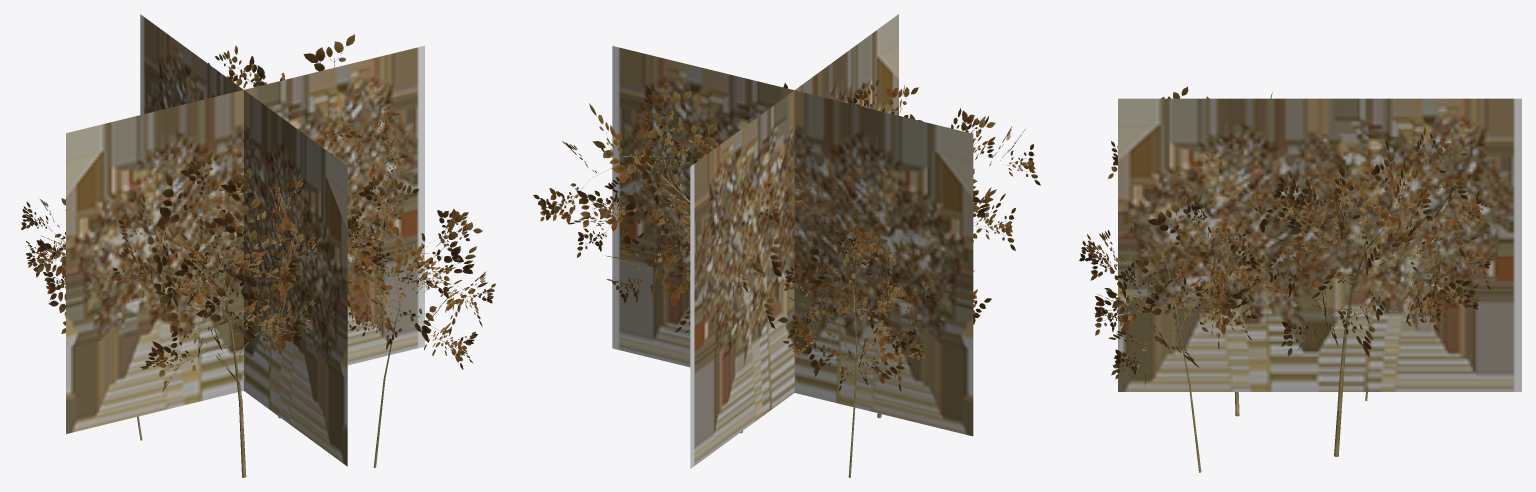
Rendered from Shrub1-5C.fbx.
3 views of the same model, side by side, from view 1: azimuth 30°, elevation 25°; view 2: azimuth 150°, elevation 25°; view 3: azimuth 270°, elevation 25° (orthographic). The views are drawn at different scales.
Parts seen in each view (by area): view 1: Billboard-Shrub1-5C, Shrub1-5C_LOD0; view 2: Billboard-Shrub1-5C, Shrub1-5C_LOD0; view 3: Billboard-Shrub1-5C, Shrub1-5C_LOD0.
Part boxes in pixels (bbox=[...]): Billboard-Shrub1-5C: bbox=[66, 14, 424, 466]; Shrub1-5C_LOD0: bbox=[21, 34, 495, 477]; Billboard-Shrub1-5C: bbox=[612, 14, 973, 468]; Shrub1-5C_LOD0: bbox=[533, 78, 1040, 477]; Billboard-Shrub1-5C: bbox=[1118, 98, 1521, 391]; Shrub1-5C_LOD0: bbox=[1079, 86, 1494, 472].
Size of what is drawn, in the model's own units: 477 by 418 by 500.
